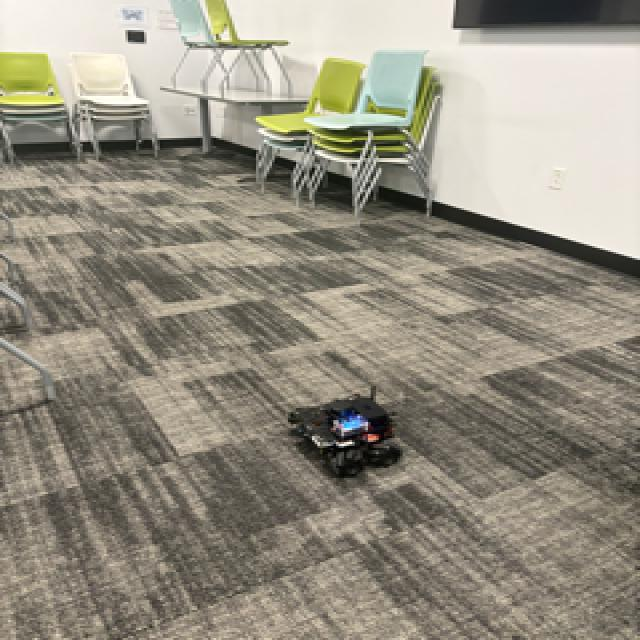ArduinoCar3: (282, 386, 408, 480)
